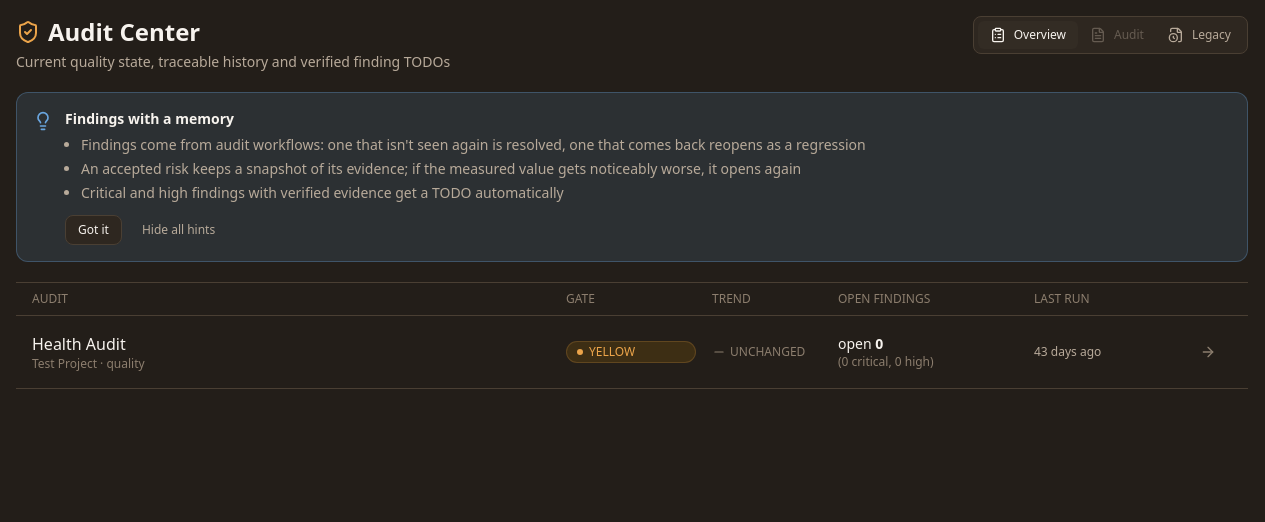
Test: AuditCenter findings filter › says when no finding has the chosen status
Click the text "Health Audit" at x=79, y=344, box [32,333,126,355]
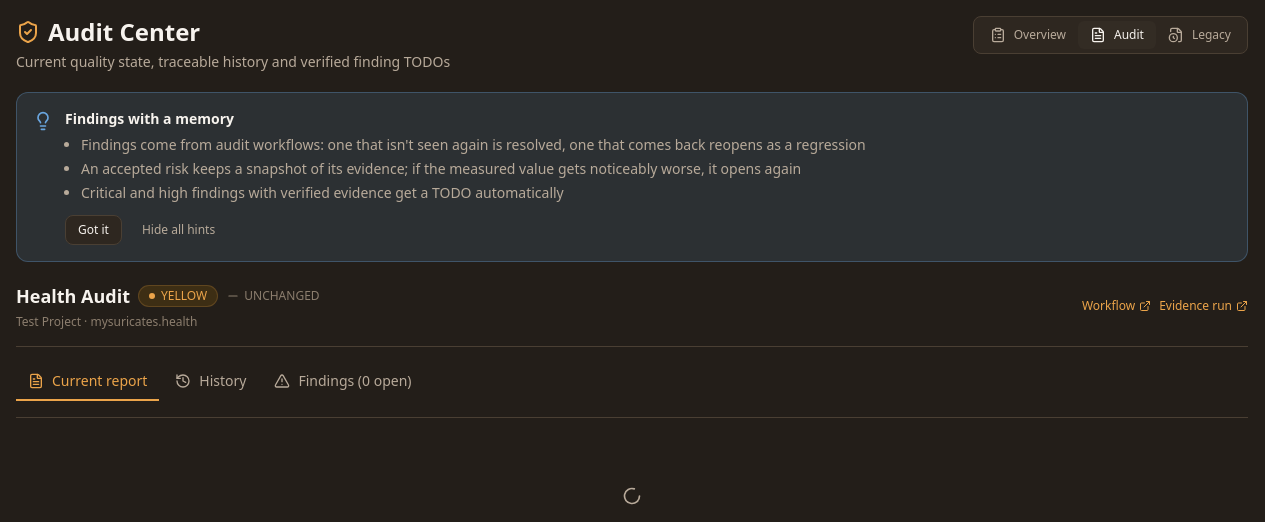
Click the button "Findings (0 open)" at x=343, y=382, box [262,363,424,401]
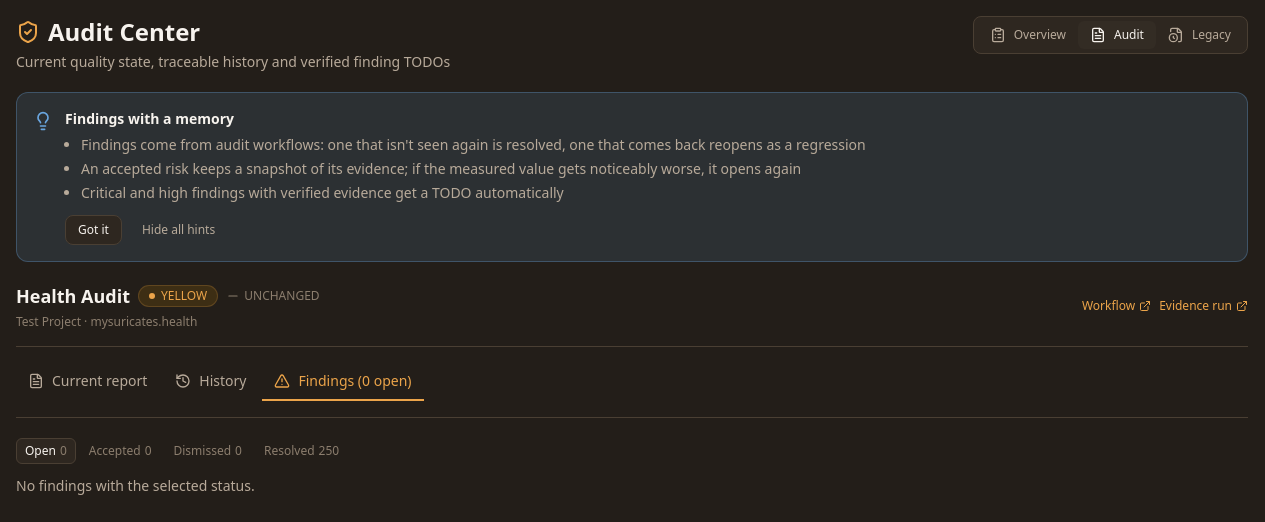
Result: the text "No findings with the selected status." is shown at [16,476,255,495]
